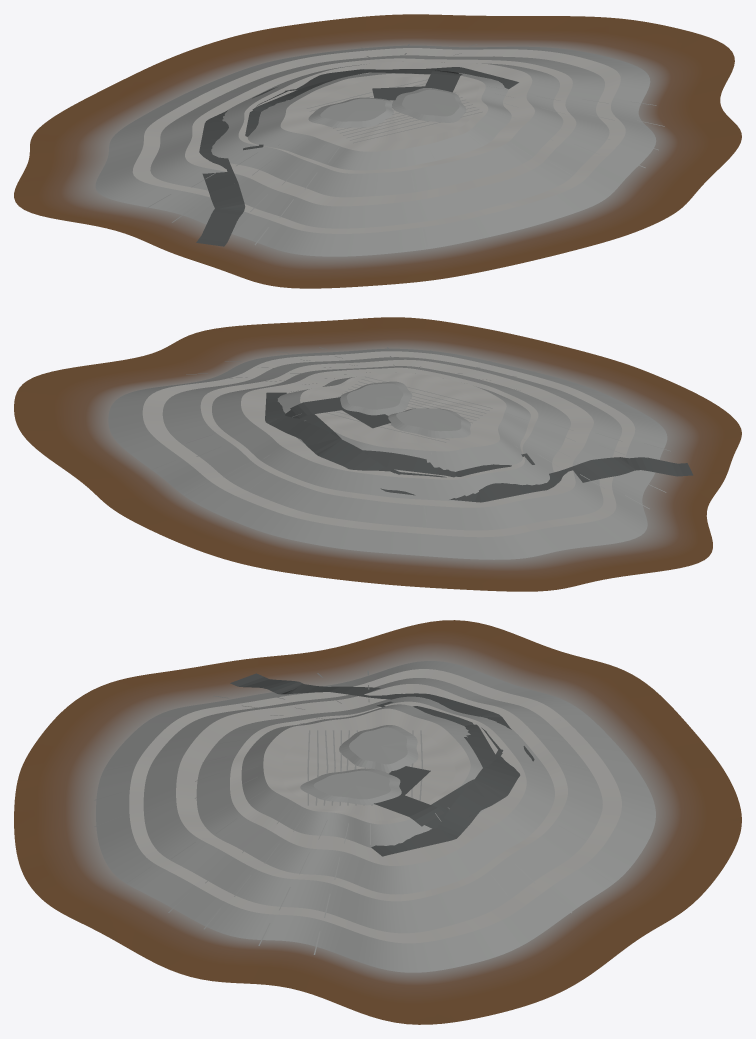
The model's file is stack.glb.
The picture shows the model from 3 angles, top to bottom: view 1: azimuth 30°, elevation 25°; view 2: azimuth 150°, elevation 25°; view 3: azimuth 270°, elevation 25°; orthographic projection. The views are drawn at different scales.
Visible parts, largest first — view 1: StackToeTransition, StackSlope01, StackSlope02, StackSlope03, StackBench01, StackBench02, StackSlope04, HaulRoad, StackBench03, StackTop, StackBench04, WorkingCellWest (+4 smaller); view 2: StackToeTransition, StackSlope01, StackSlope02, StackSlope03, StackBench01, StackBench02, HaulRoad, StackBench03, StackTop, StackSlope04, StackBench04, BenchRoad (+4 smaller); view 3: StackToeTransition, StackSlope01, StackSlope02, StackSlope03, StackBench01, StackBench02, StackSlope04, StackBench03, HaulRoad, StackTop, StackBench04, BenchRoad (+4 smaller).
Part boxes in pixels (<box>): StackToeTransition: <box>14,14,741,288</box>; StackSlope01: <box>95,45,656,256</box>; StackSlope02: <box>150,55,609,228</box>; StackSlope03: <box>211,63,563,197</box>; StackBench01: <box>132,48,625,233</box>; StackBench02: <box>185,58,576,206</box>; StackSlope04: <box>247,72,511,170</box>; HaulRoad: <box>196,69,462,246</box>; StackBench03: <box>238,61,534,173</box>; StackTop: <box>307,77,480,142</box>; StackBench04: <box>280,73,488,151</box>; WorkingCellWest: <box>308,97,393,127</box>; StackToeTransition: <box>14,317,741,591</box>; StackSlope01: <box>108,348,667,559</box>; StackSlope02: <box>162,357,621,530</box>; StackSlope03: <box>212,366,570,501</box>; StackBench01: <box>142,351,635,537</box>; StackBench02: <box>200,359,593,507</box>; HaulRoad: <box>285,397,693,502</box>; StackBench03: <box>241,367,538,479</box>; StackTop: <box>308,377,481,443</box>; StackSlope04: <box>277,377,530,471</box>; StackBench04: <box>300,373,506,451</box>; BenchRoad: <box>265,392,534,477</box>; StackToeTransition: <box>14,620,741,1024</box>; StackSlope01: <box>96,661,655,972</box>; StackSlope02: <box>143,678,602,933</box>; StackSlope03: <box>196,696,554,894</box>; StackBench01: <box>129,669,621,943</box>; StackBench02: <box>176,684,567,901</box>; StackSlope04: <box>241,704,486,848</box>; StackBench03: <box>230,701,526,865</box>; HaulRoad: <box>230,673,534,828</box>; StackTop: <box>282,723,455,820</box>; StackBench04: <box>263,708,470,824</box>; BenchRoad: <box>371,701,496,856</box>.
Bounding box in the file's own units: 151 × 9.13 × 114.
